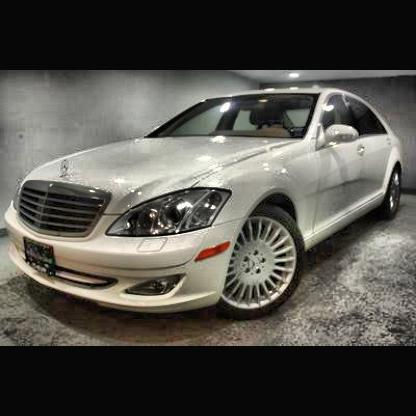Mercedes-Benz S-Class Sedan 2012: (6, 91, 404, 318)
